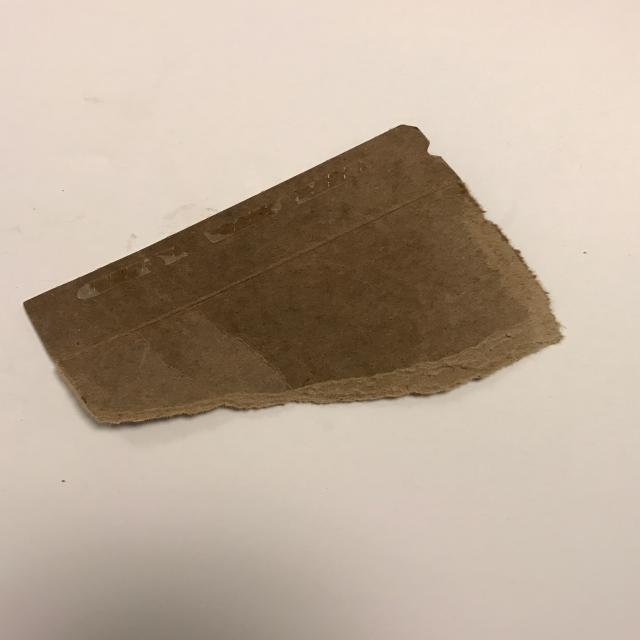paper: (0, 98, 618, 468)
